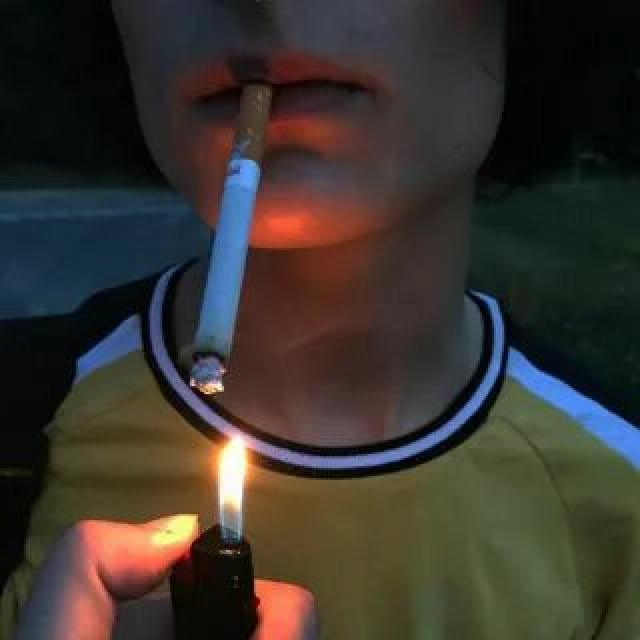cigarette: (182, 82, 276, 402)
